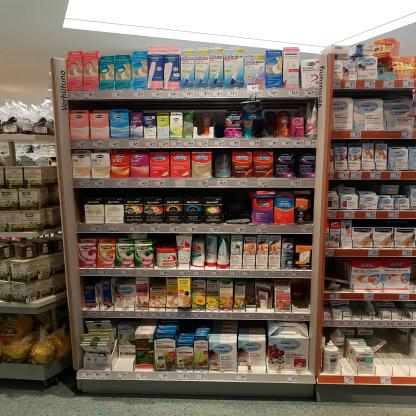Void: (91, 190, 216, 200), (375, 334, 403, 373), (224, 193, 249, 221), (292, 284, 305, 314), (327, 260, 343, 280), (76, 189, 84, 223), (214, 110, 223, 137), (352, 301, 366, 315), (400, 42, 414, 56), (296, 236, 308, 242), (160, 235, 168, 244), (153, 279, 162, 285)
